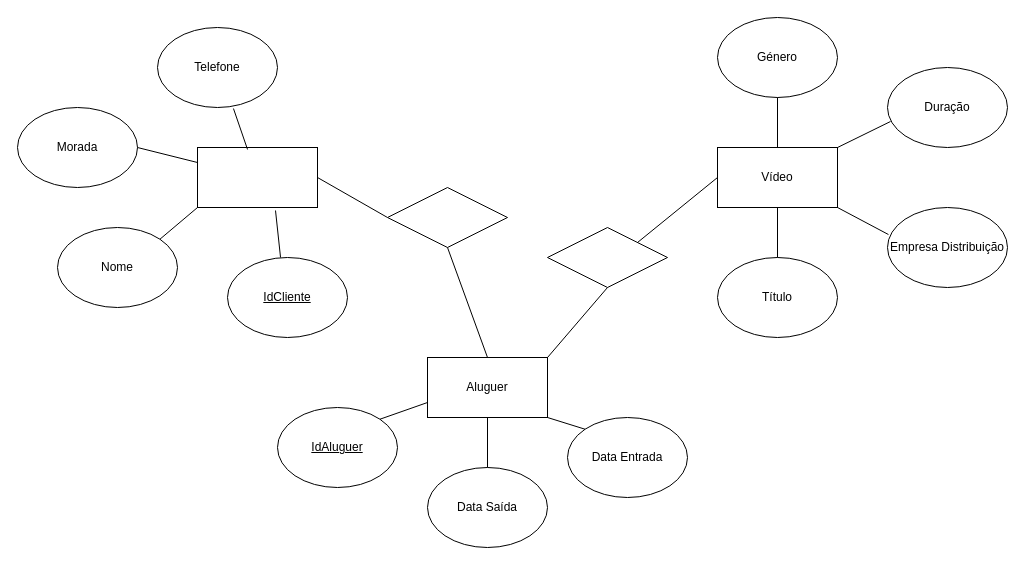
This 1025x565 diagram has some shape labels left out. The centre of each missing label's shape, as x and y in pixels:
Cliente: point 257,177
contém: point 607,257
faz: point 447,217
